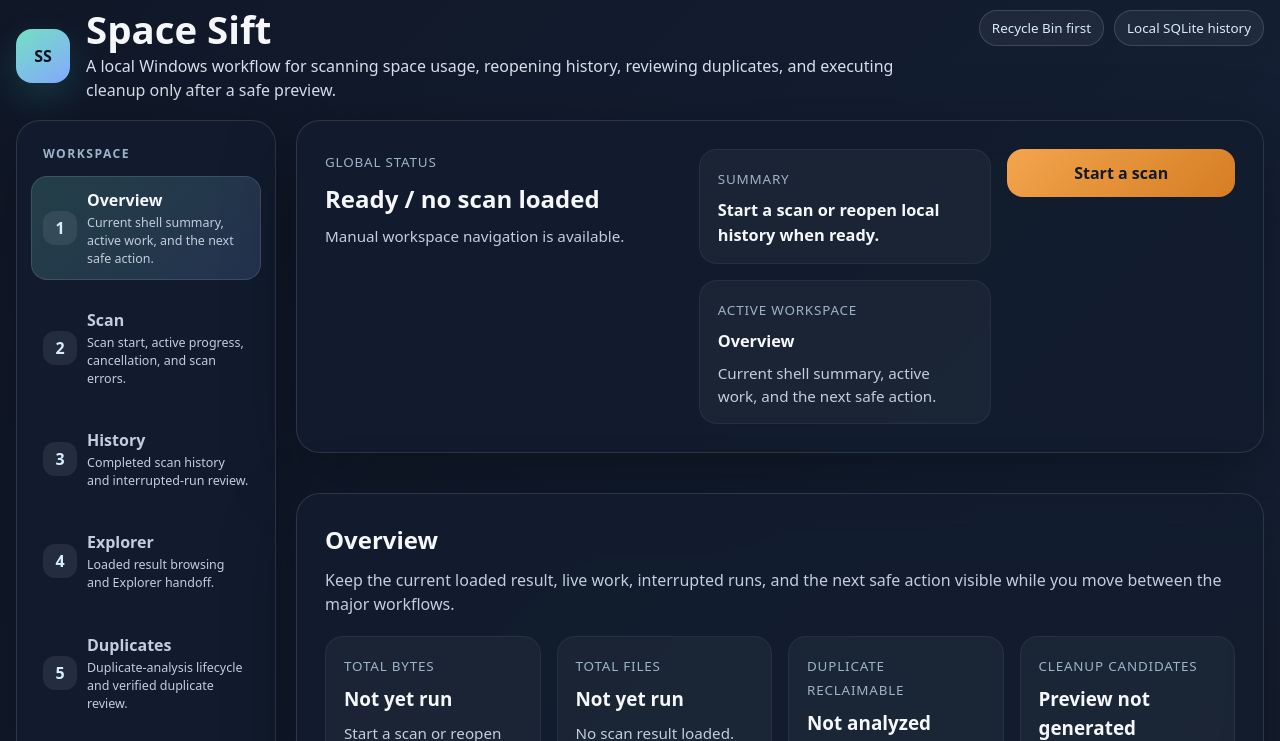
Test: Space Sift results explorer › renders the root explorer, drills into directories, and navigates by breadcrumb
The width and height of the screenshot is (1280, 741).
Click the tab "Explorer" at [146, 562], box top-left (31, 518), bottom-right (261, 605)
(page scrolled)
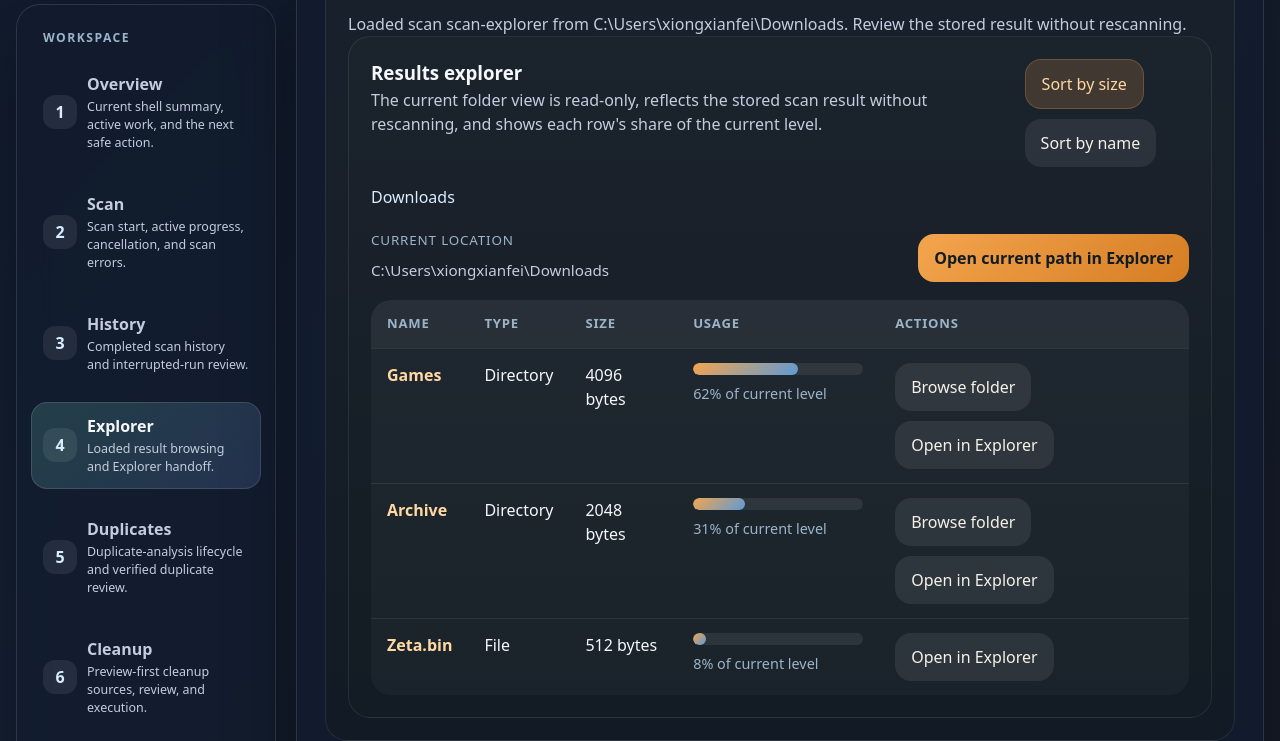
Now the button with aria-label "browse games" is shown
Now the text "Current location" is shown, box top-left (371, 232), bottom-right (514, 250)
Now the button "Sort by size" is shown, box top-left (1025, 60), bottom-right (1144, 110)
Click the button with aria-label "browse games" at [963, 387], box top-left (895, 363), bottom-right (1031, 411)
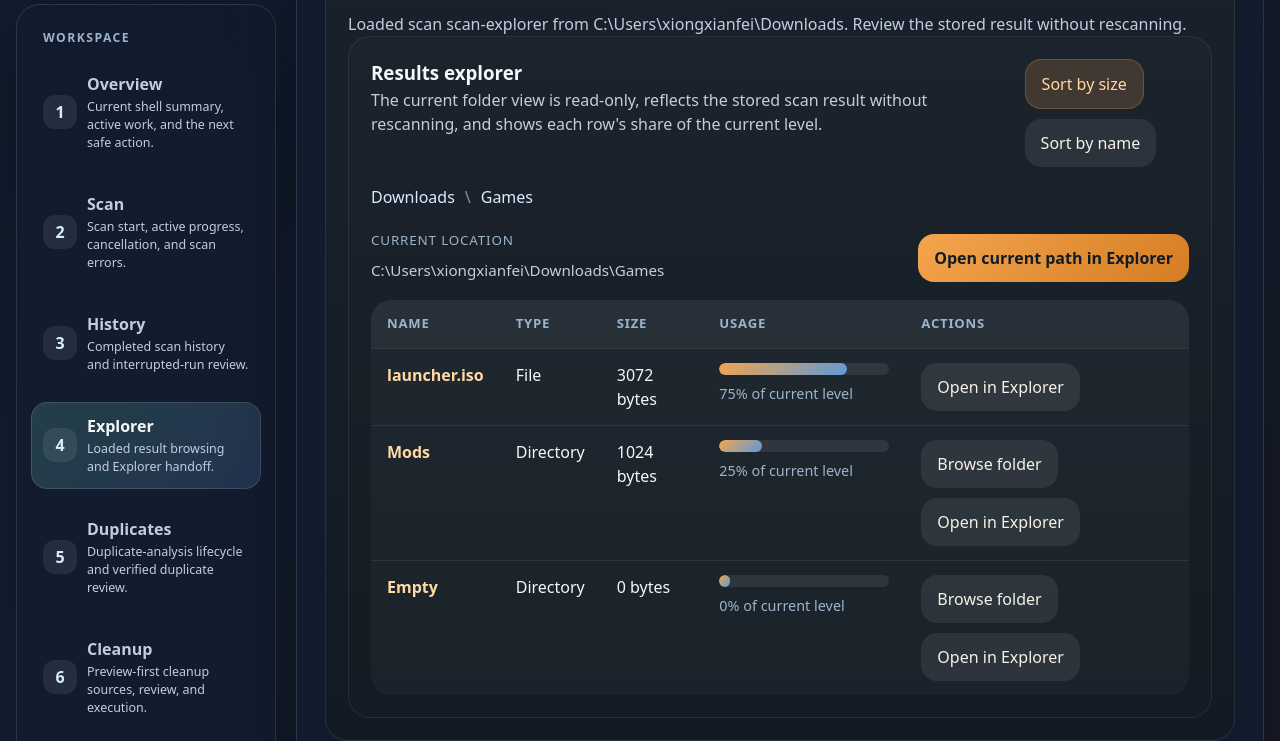
Now the button with aria-label "browse mods" is shown, box top-left (921, 440), bottom-right (1058, 488)
Now the button "Games" is shown, box top-left (481, 186), bottom-right (533, 210)
Now the text "Archive" is gone
Click the button "Downloads" at [413, 198], box top-left (371, 186), bottom-right (455, 210)
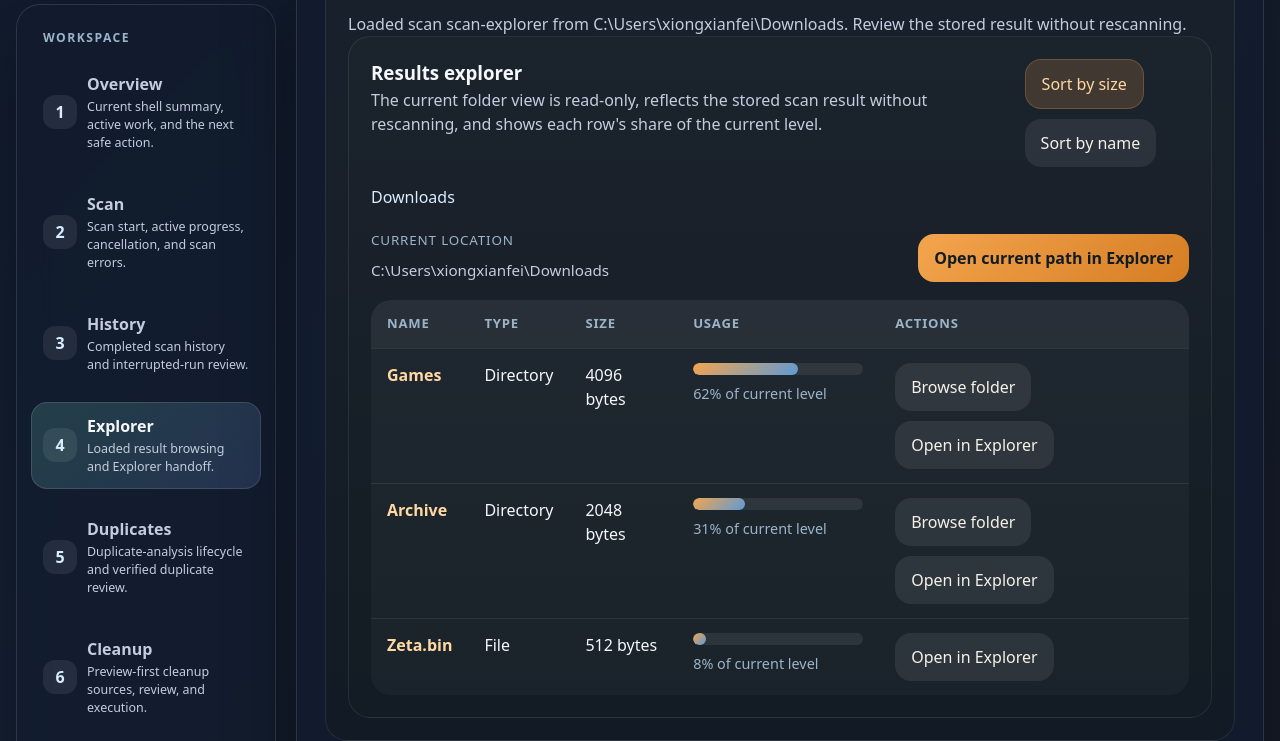
Now the button with aria-label "browse archive" is shown, box top-left (895, 498), bottom-right (1031, 546)
